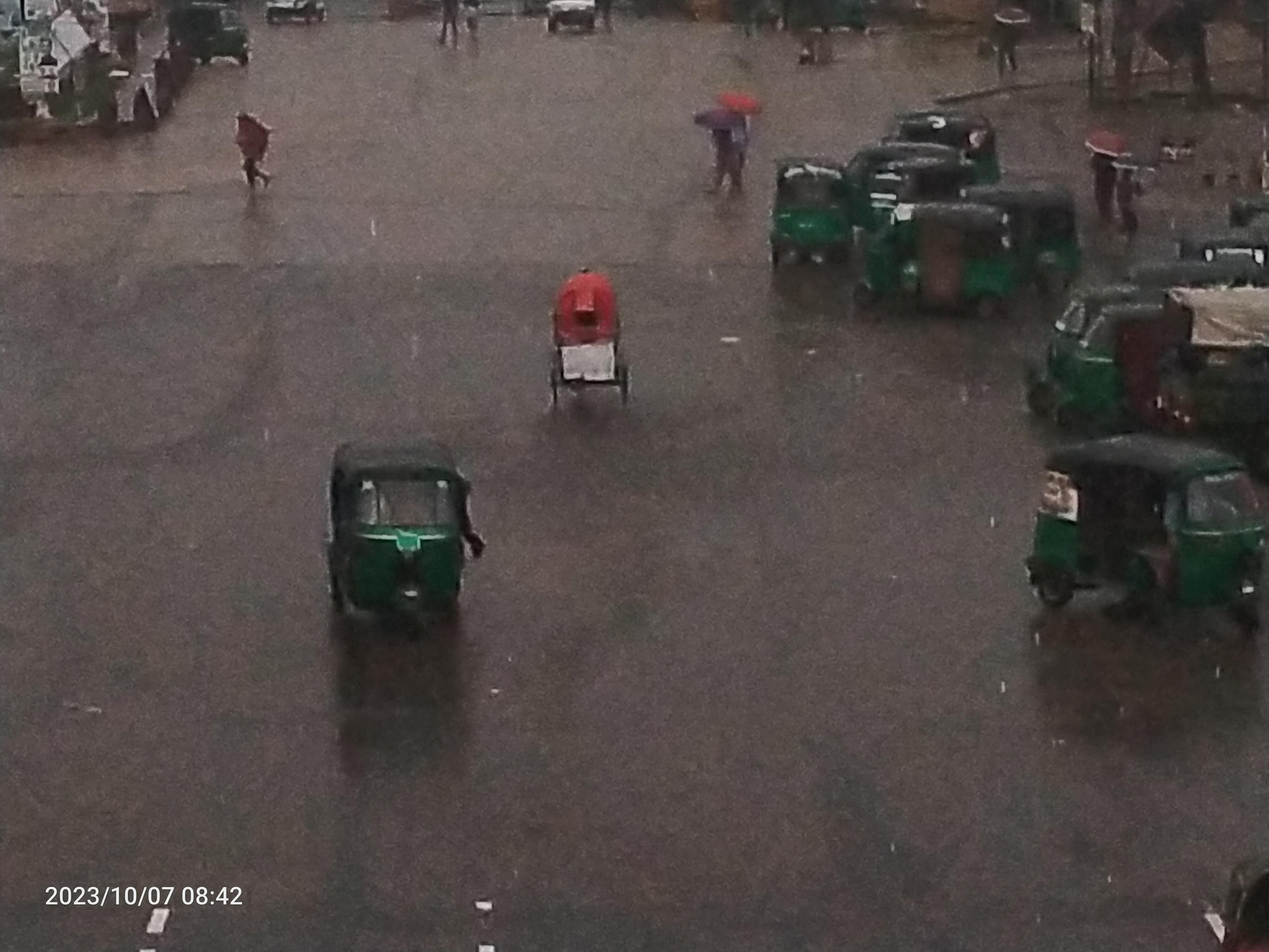Car: (500, 243, 656, 424)
